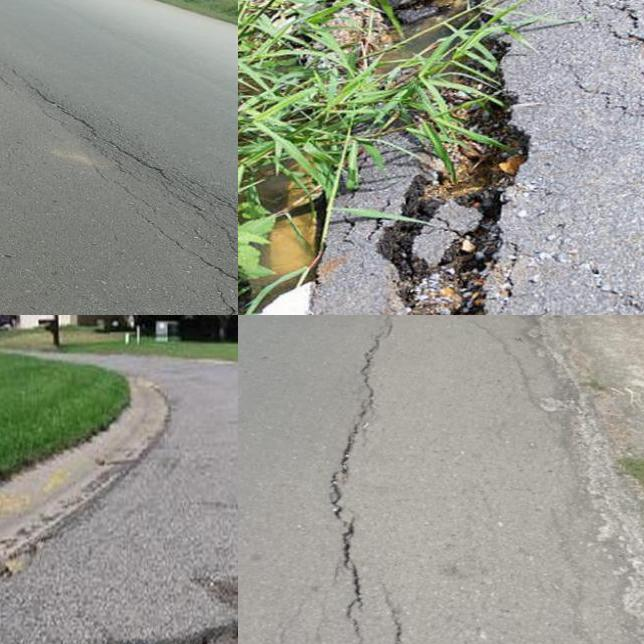Memanjang: (316, 315, 410, 644), (376, 574, 418, 644)
Pinggir: (243, 0, 548, 315)
